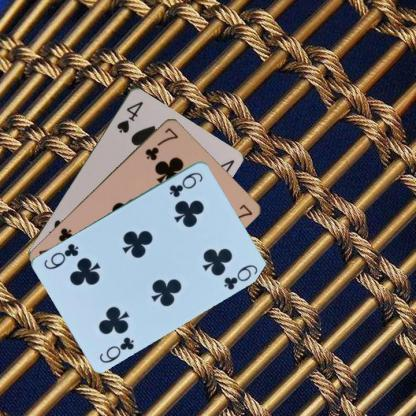4s: (114, 98, 144, 134)
6c: (96, 333, 136, 364), (166, 169, 204, 198)
7c: (142, 124, 180, 162)
